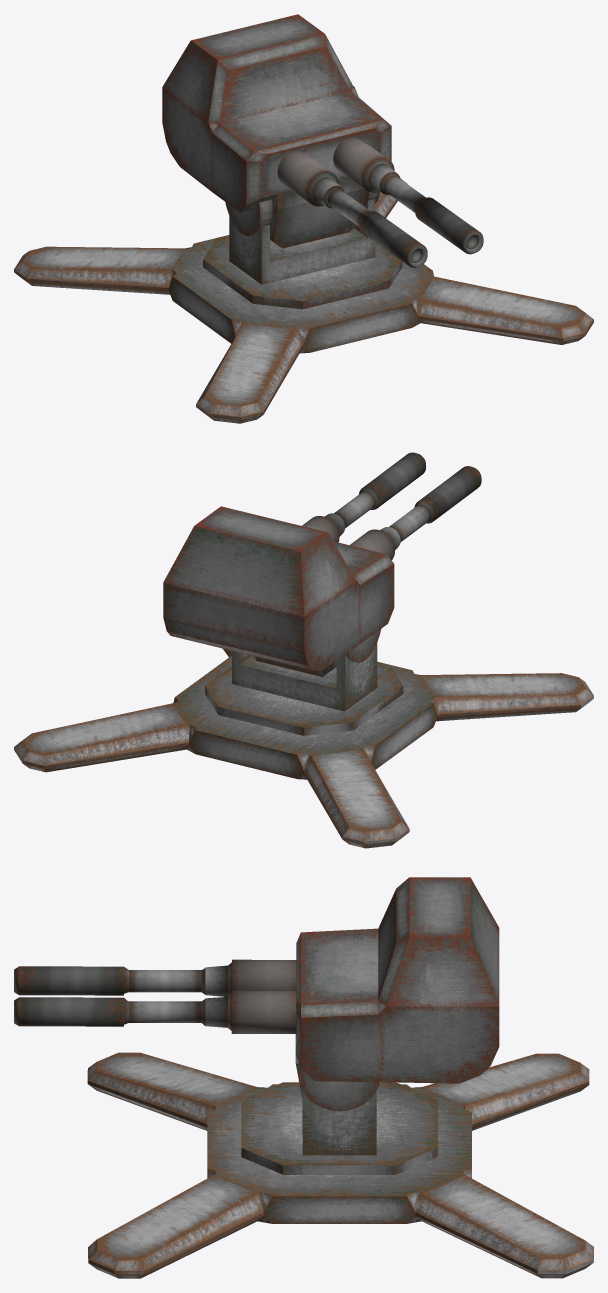
The model's file is 3.2 turret2 .fbx.
3 views of the same model, one above another, from view 1: azimuth 30°, elevation 25°; view 2: azimuth 150°, elevation 25°; view 3: azimuth 270°, elevation 25° (orthographic). The views are drawn at different scales.
Parts seen in each view (by area): view 1: turret, top of turret; view 2: turret, top of turret; view 3: turret, top of turret.
Part boxes in pixels (x1,y1,x2,y2): turret: (14, 178, 593, 423); top of turret: (162, 14, 483, 267); turret: (14, 643, 593, 848); top of turret: (163, 452, 481, 676); turret: (87, 1052, 593, 1278); top of turret: (14, 877, 499, 1111).
Size of the model in its own units: 344 by 201 by 394.
